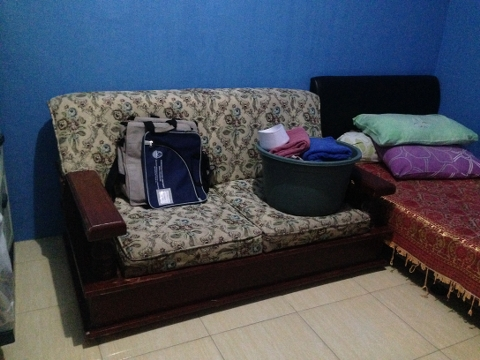kursi: (48, 88, 395, 338)
